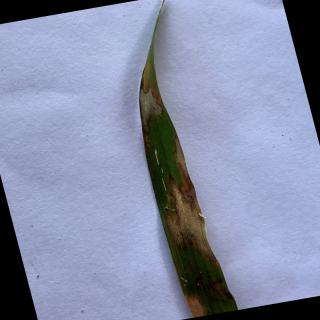Hawar-Daun: (166, 136, 220, 265), (138, 61, 166, 129), (184, 294, 208, 319)
